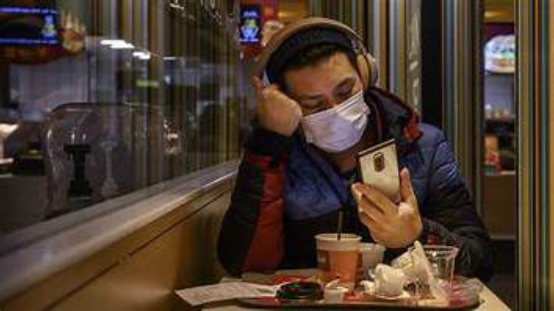mask: (276, 95, 371, 151)
social distancing: (228, 15, 466, 223)
